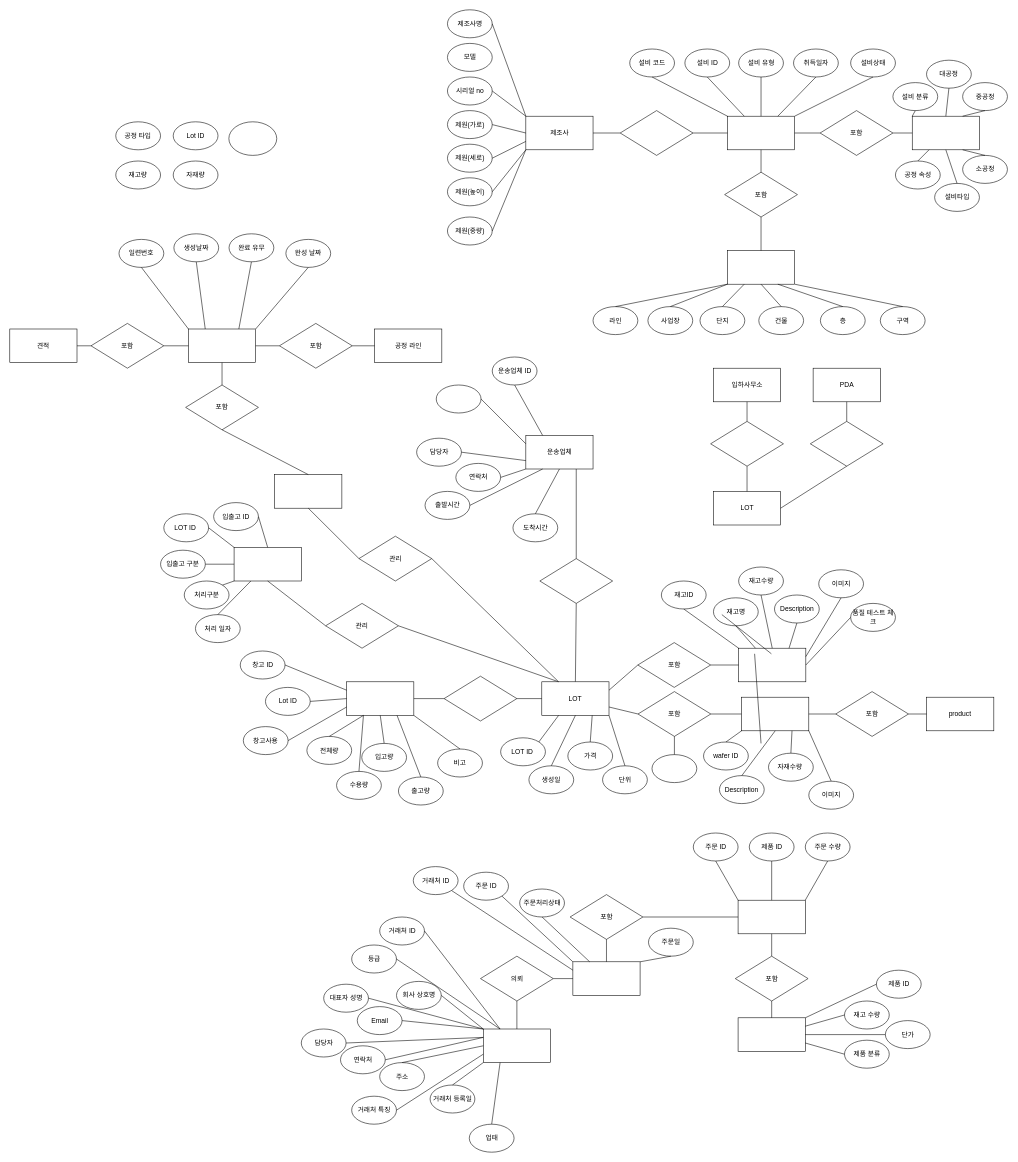
This 1018x1162 diagram has some shape labels left out. Here are the shapes that lost their labels. From the top down, the centre of each, then its label:
At point (252, 138): "ERP 자료".
At point (656, 132): "제작".
At point (761, 133): "설비".
At point (945, 133): "분류(구분)".
At point (761, 267): "위치".
At point (222, 345): "계획".
At point (458, 398): "운송업체명".
At point (746, 443): "등록".
At point (846, 443): "스캔".
At point (308, 491): "생산항목".
At point (267, 564): "입/출고".
At point (576, 580): "배송".
At point (772, 665): "재고".
At point (380, 698): "창고".
At point (480, 698): "보관".
At point (775, 714): "wafer".
At point (674, 768): "unit".
At point (771, 917): "주문항목".
At point (606, 978): "주문".
At point (516, 1045): "거래처".
At point (771, 1034): "제품".
